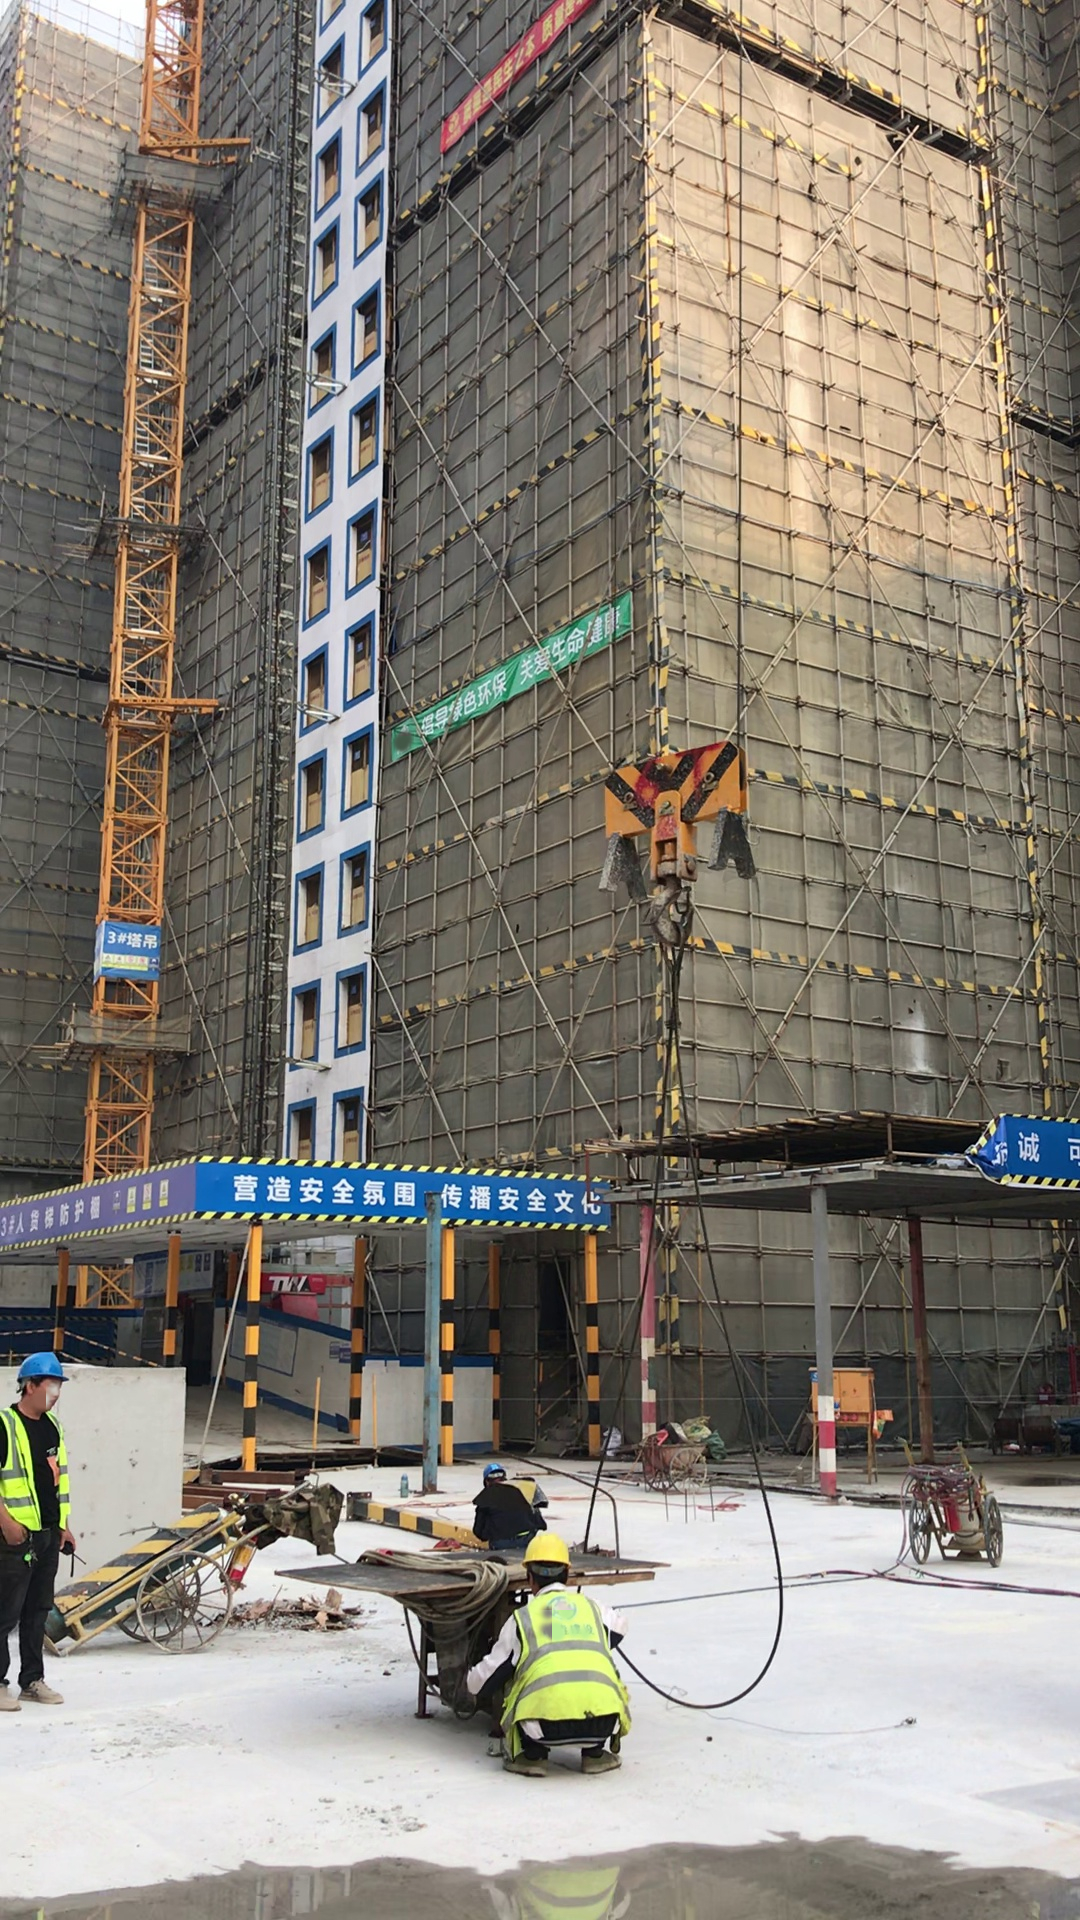ebox: (804, 1359, 881, 1484)
helmet: (520, 1525, 576, 1571), (11, 1350, 70, 1390), (481, 1458, 508, 1489)
hook: (566, 733, 764, 891)
hopper: (204, 1153, 611, 1267)
person: (464, 1530, 642, 1778), (1, 1342, 80, 1712), (471, 1450, 550, 1551)
slogan: (400, 594, 639, 744)
vest: (504, 1591, 630, 1742), (1, 1400, 74, 1555)
